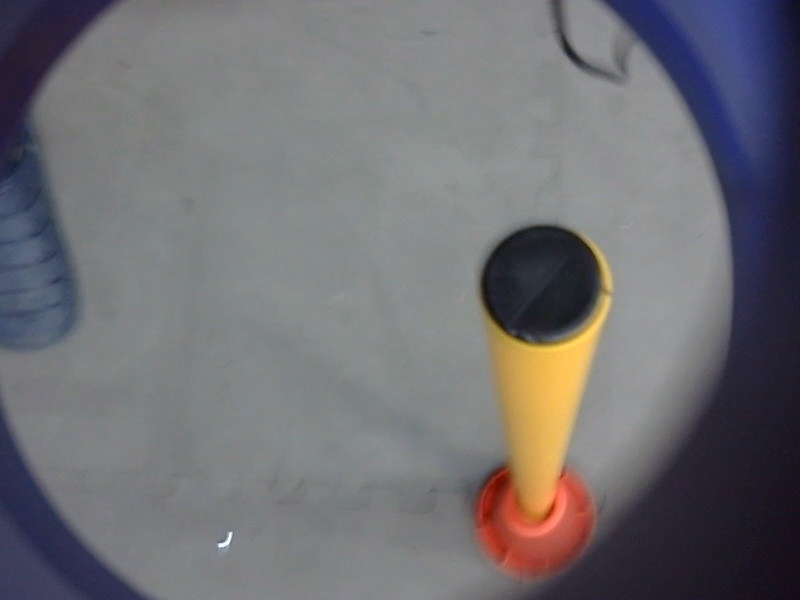tip: (469, 217, 622, 359)
